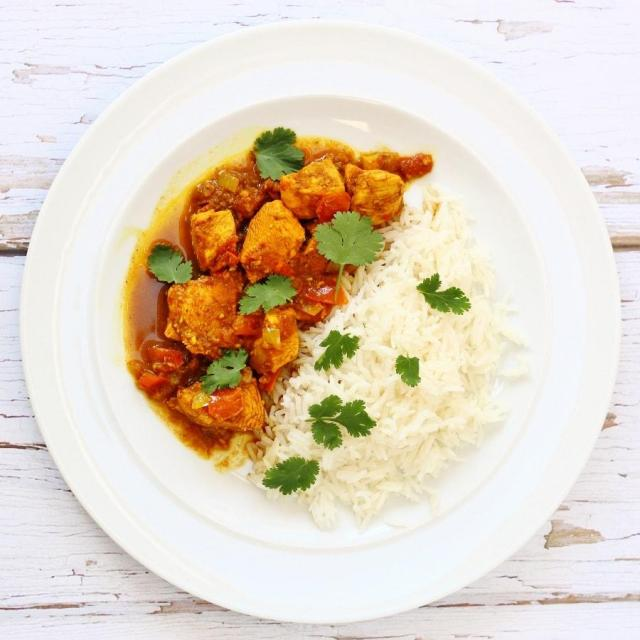chicken: (132, 140, 346, 412)
rice: (308, 201, 522, 494)
